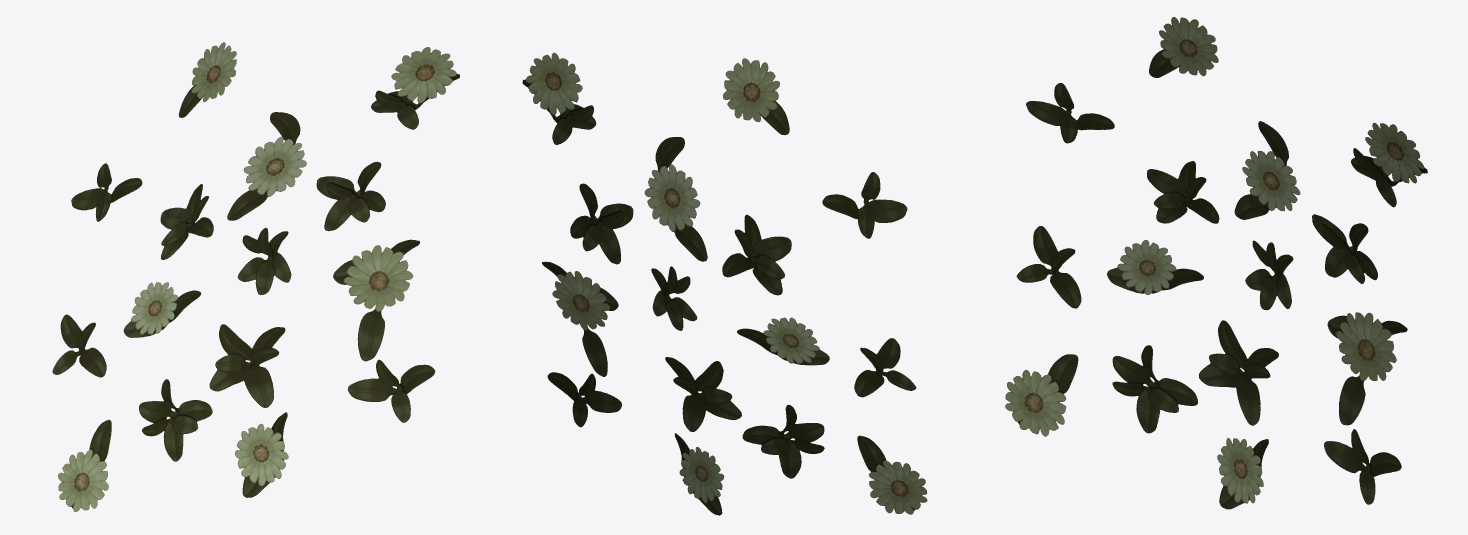
The model's file is TI_Weed_01.fbx.
The picture shows the model from 3 angles, left to right: view 1: azimuth 30°, elevation 25°; view 2: azimuth 150°, elevation 25°; view 3: azimuth 330°, elevation 25°; orthographic projection. The views are drawn at different scales.
Visible parts, largest first — view 1: TI_Weed_01; view 2: TI_Weed_01; view 3: TI_Weed_01.
Part boxes in pixels (box(x1,y1,x2,y2)): TI_Weed_01: box(52, 42, 459, 511); TI_Weed_01: box(522, 52, 927, 515); TI_Weed_01: box(1005, 17, 1427, 509).
Bounding box in the file's own units: 0.7991 × 0.7991 × 0.0937.
